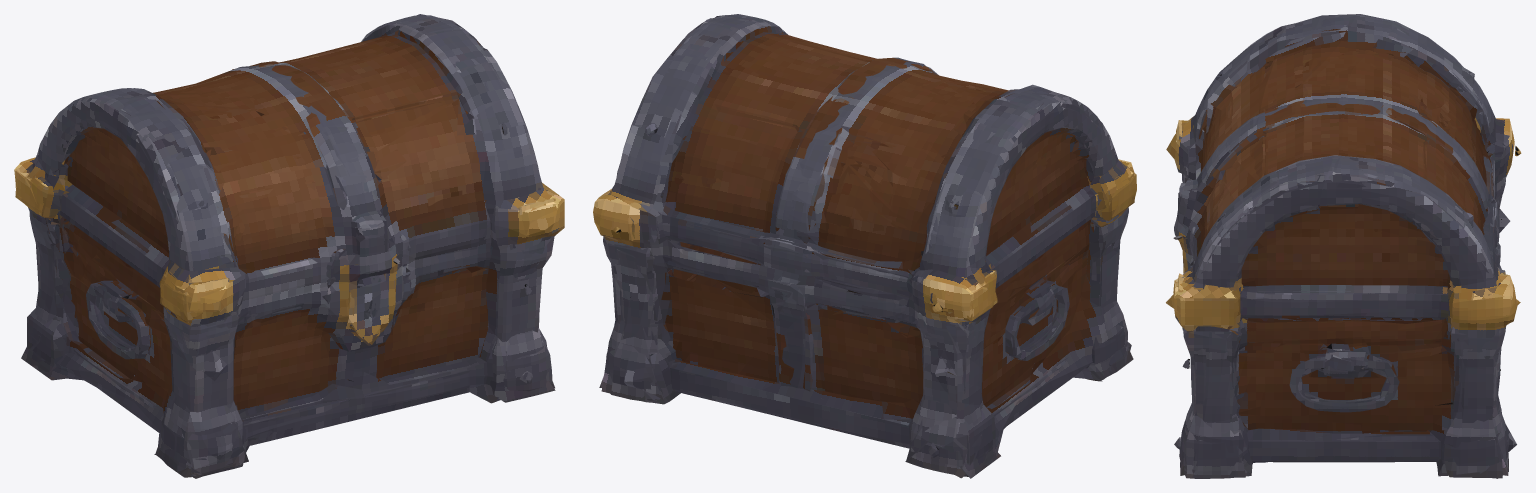
The model's file is Chest_QuadRetro.glb.
3 renders of one model, left to right at view 1: azimuth 30°, elevation 25°; view 2: azimuth 150°, elevation 25°; view 3: azimuth 270°, elevation 25°, orthographic. The views are drawn at different scales.
Visible parts, largest first — view 1: Chest_QuadRemesh; view 2: Chest_QuadRemesh; view 3: Chest_QuadRemesh.
Part boxes in pixels (left/top/right/bottom): Chest_QuadRemesh: left=14, top=14, right=564, bottom=478; Chest_QuadRemesh: left=593, top=14, right=1136, bottom=478; Chest_QuadRemesh: left=1166, top=14, right=1521, bottom=478.
Size of the model in its own units: 2.56 by 1.99 by 2.14.
1 material, 1 textured.
